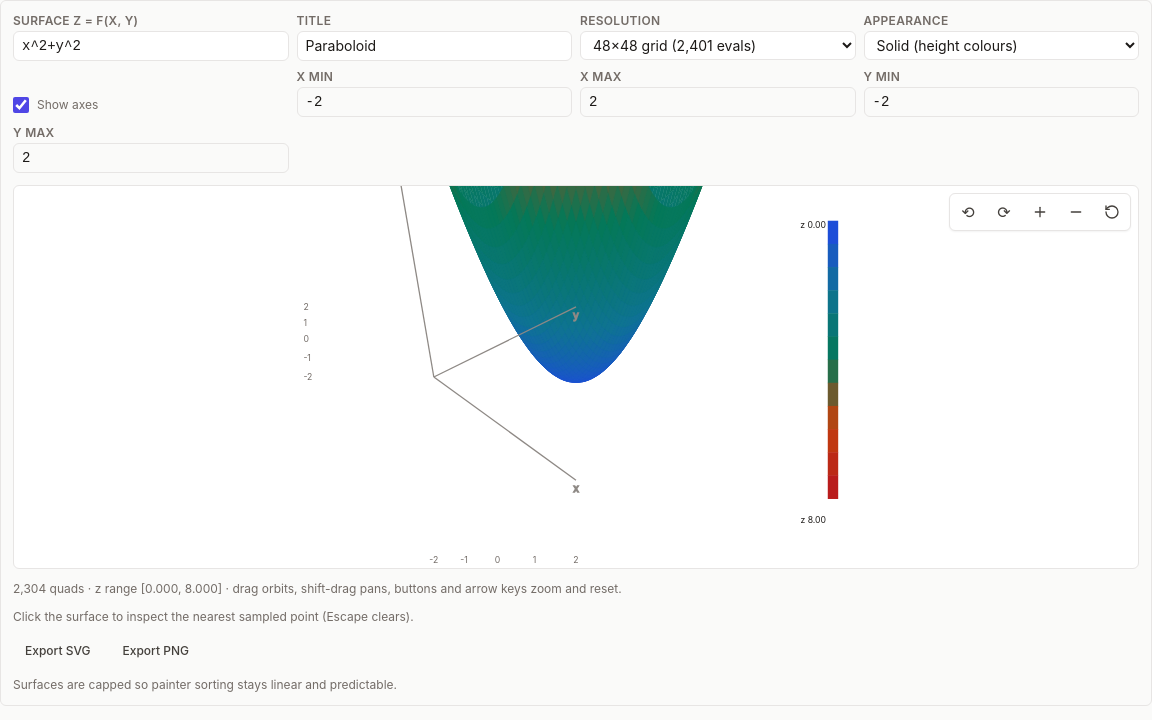
Scenario: 3D surface view › changes quad density with the resolution control and warns when coarse
Select "24×24 grid (625 evals)" in the dropdown named "Surface resolution" at x=718, y=46, box [580,31,856,60]
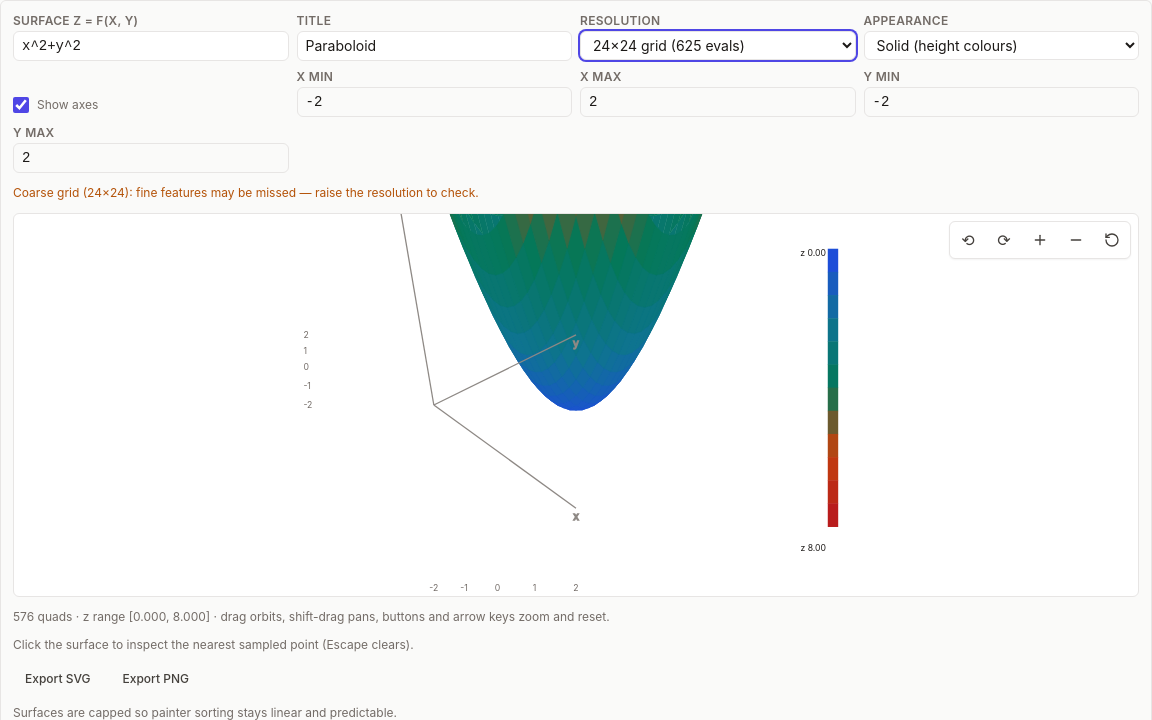
Expected: the text "Coarse grid" is shown, [13,185,87,200]
